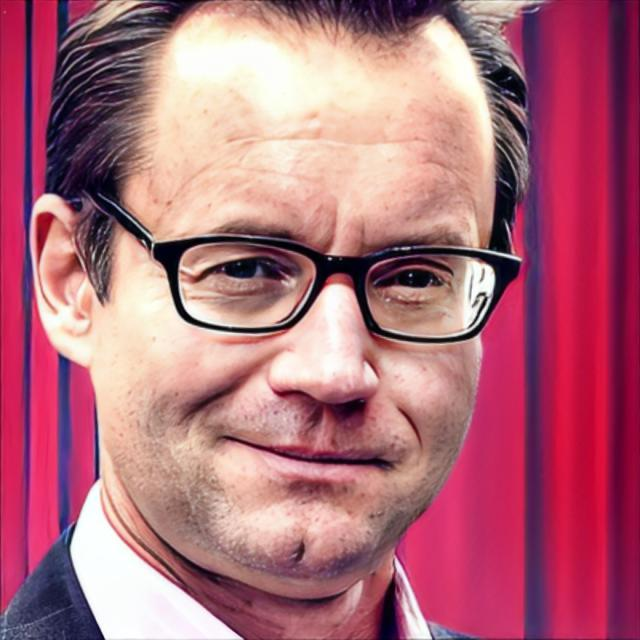content: (98, 0, 496, 584)
